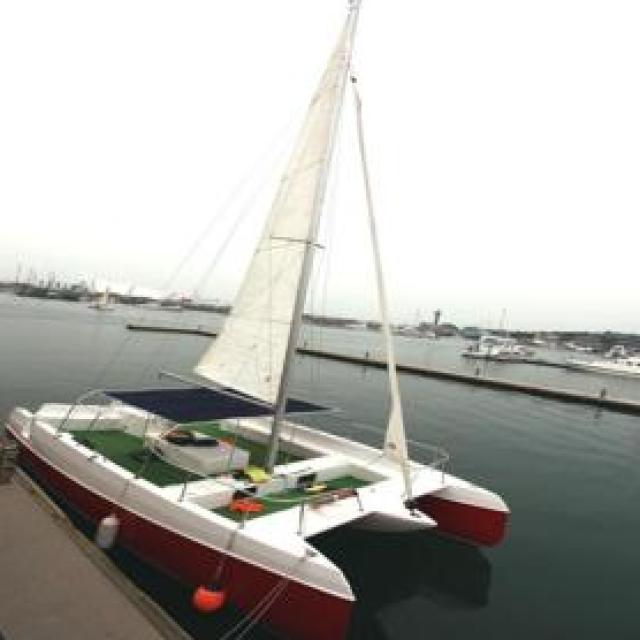sailboat: (21, 0, 495, 601)
